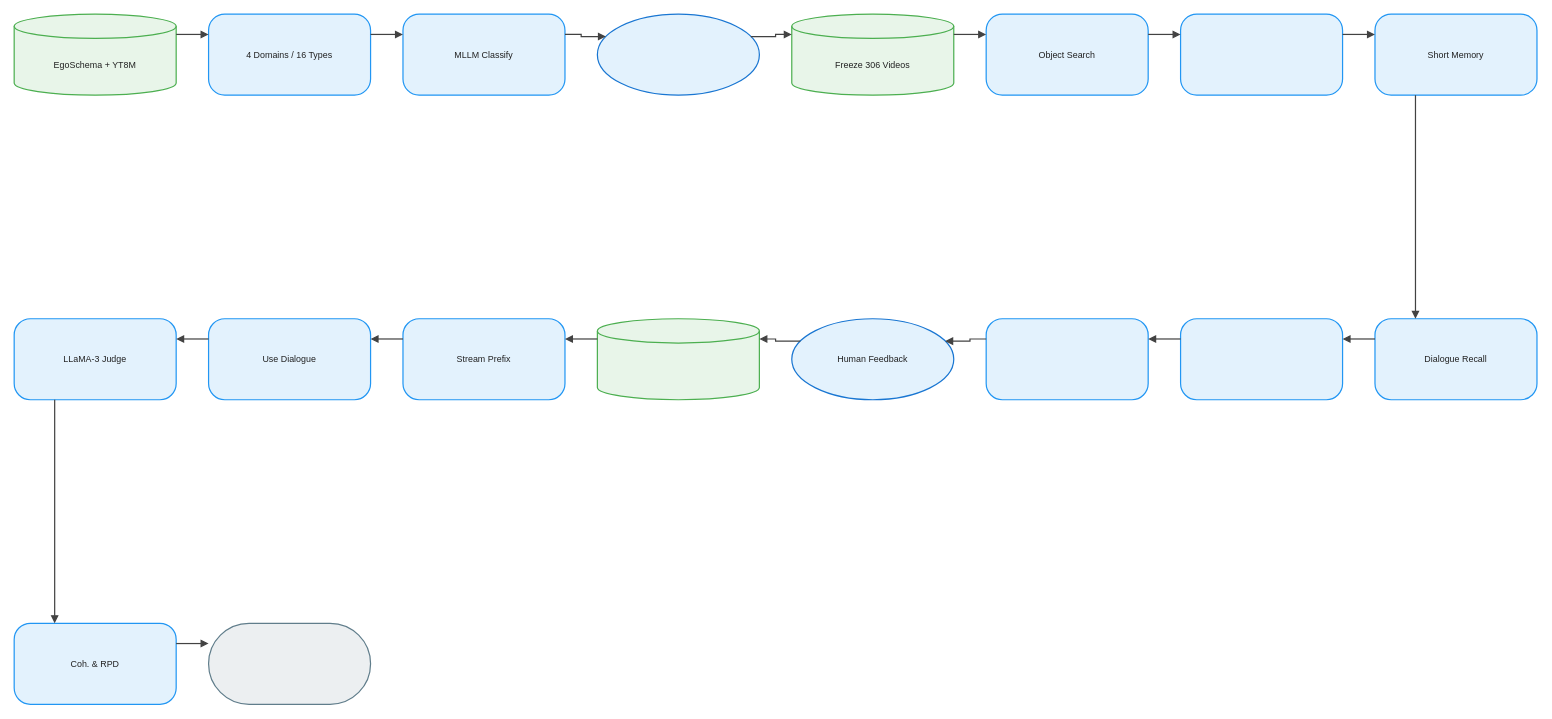
The diagram is 1552 pixels wide and 719 high, and some of its shapes have lost their labels. Each missing label, with the centre of its shape:
Freeze 1.8K QA: the point at 678,359
Human Filter: the point at 678,54
Knowledge QA: the point at 1261,359
Long Memory: the point at 1261,54
Report 6 Tasks: the point at 289,663
Simple Factual: the point at 1066,359
